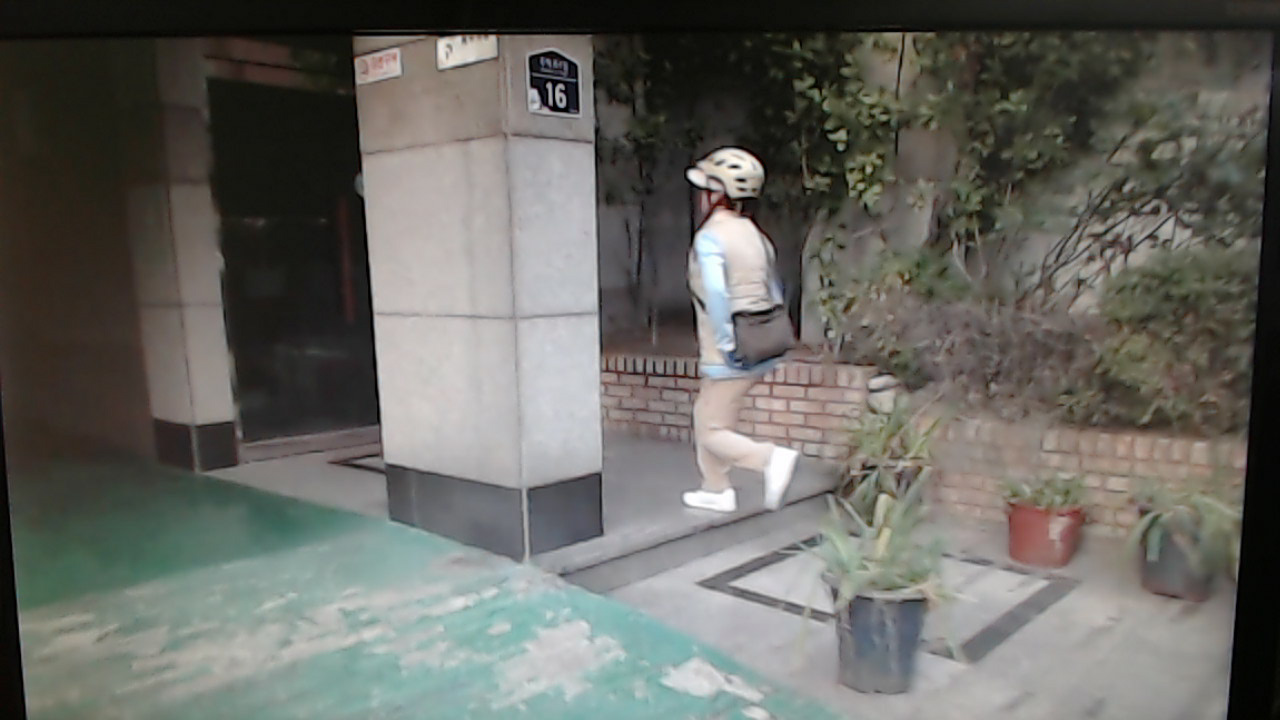Yakurut: (675, 146, 831, 524)
